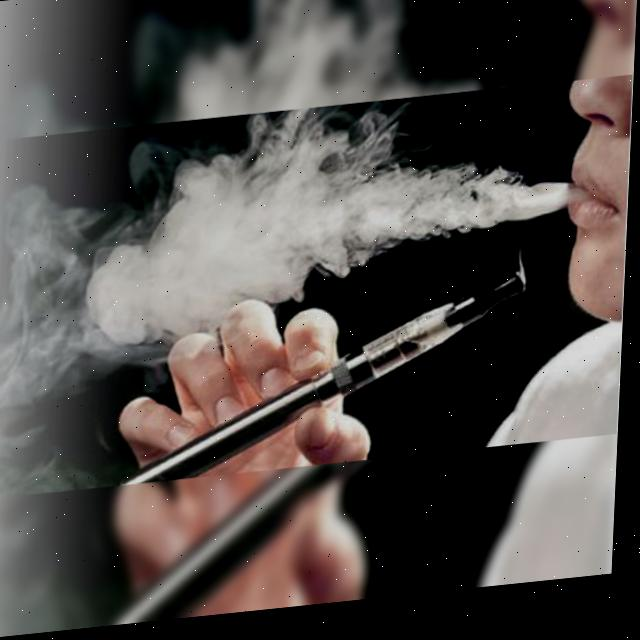vape: (129, 280, 531, 486)
